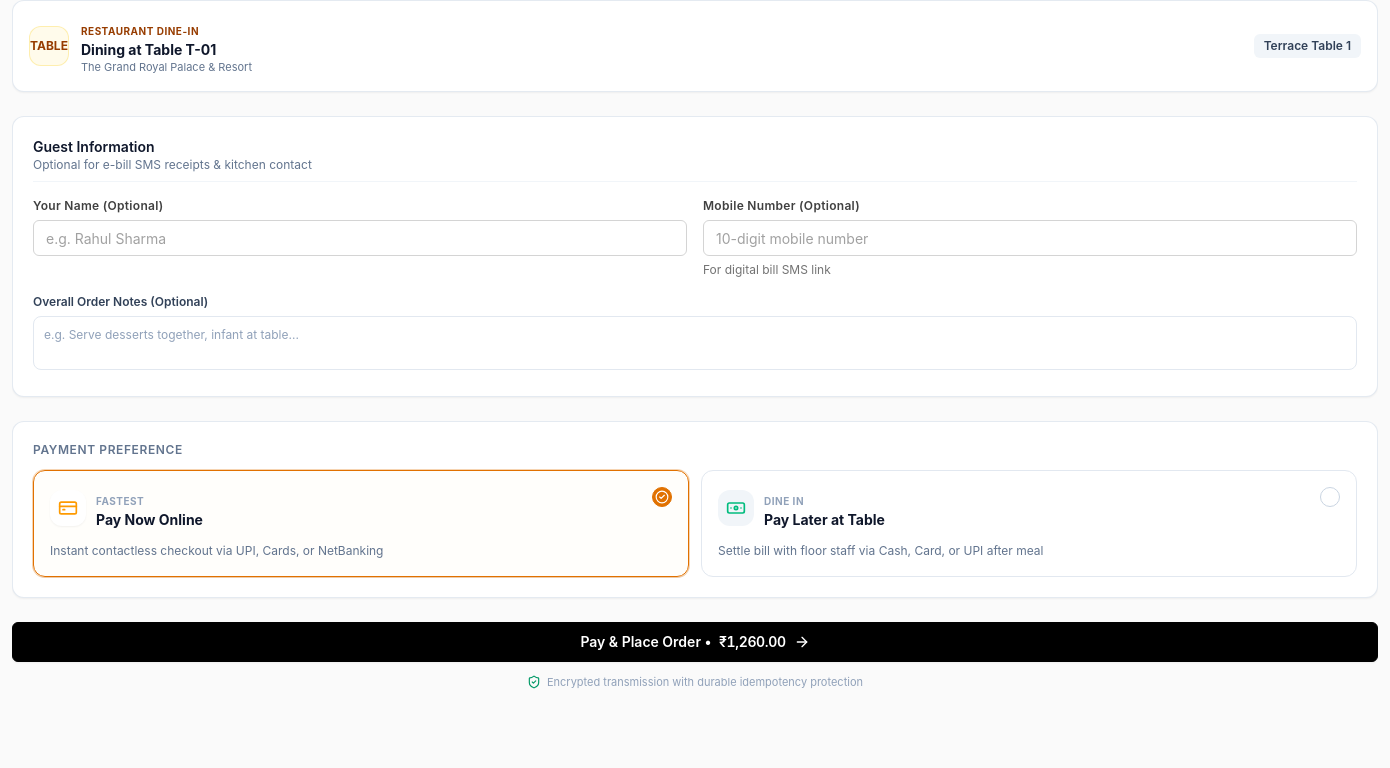
SCULPX E-Billing — Phase 3B.4 Frontend Order Integration & Realtime Tests › should handle unavailable items returned by backend cart validation without creating order
Click the button "Pay & Place Order • ₹1,260.00" at (695, 642), box x1=12 y1=622 x2=1378 y2=662
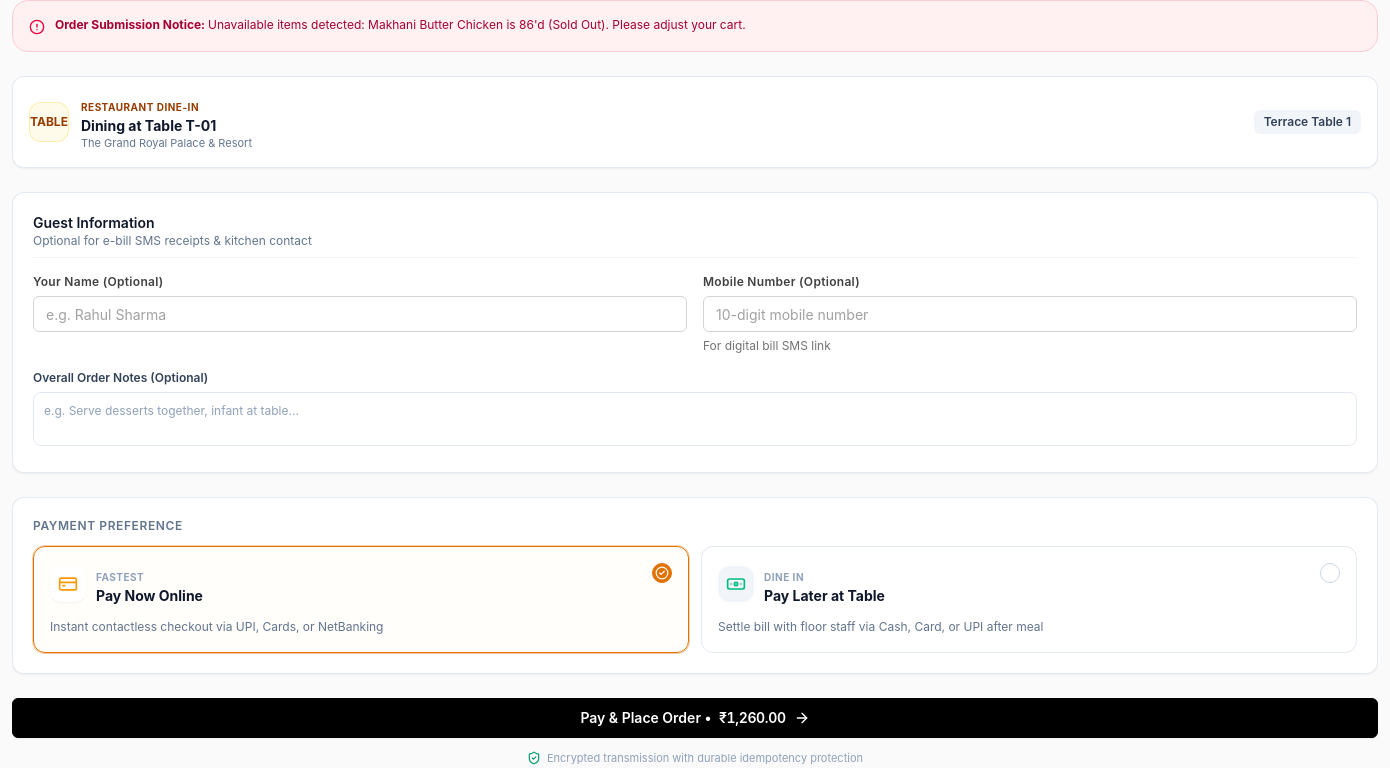
Expected: the message is shown, x1=12 y1=0 x2=1378 y2=52
Expected: the text "Unavailable items detected" is shown, x1=208 y1=17 x2=746 y2=32
